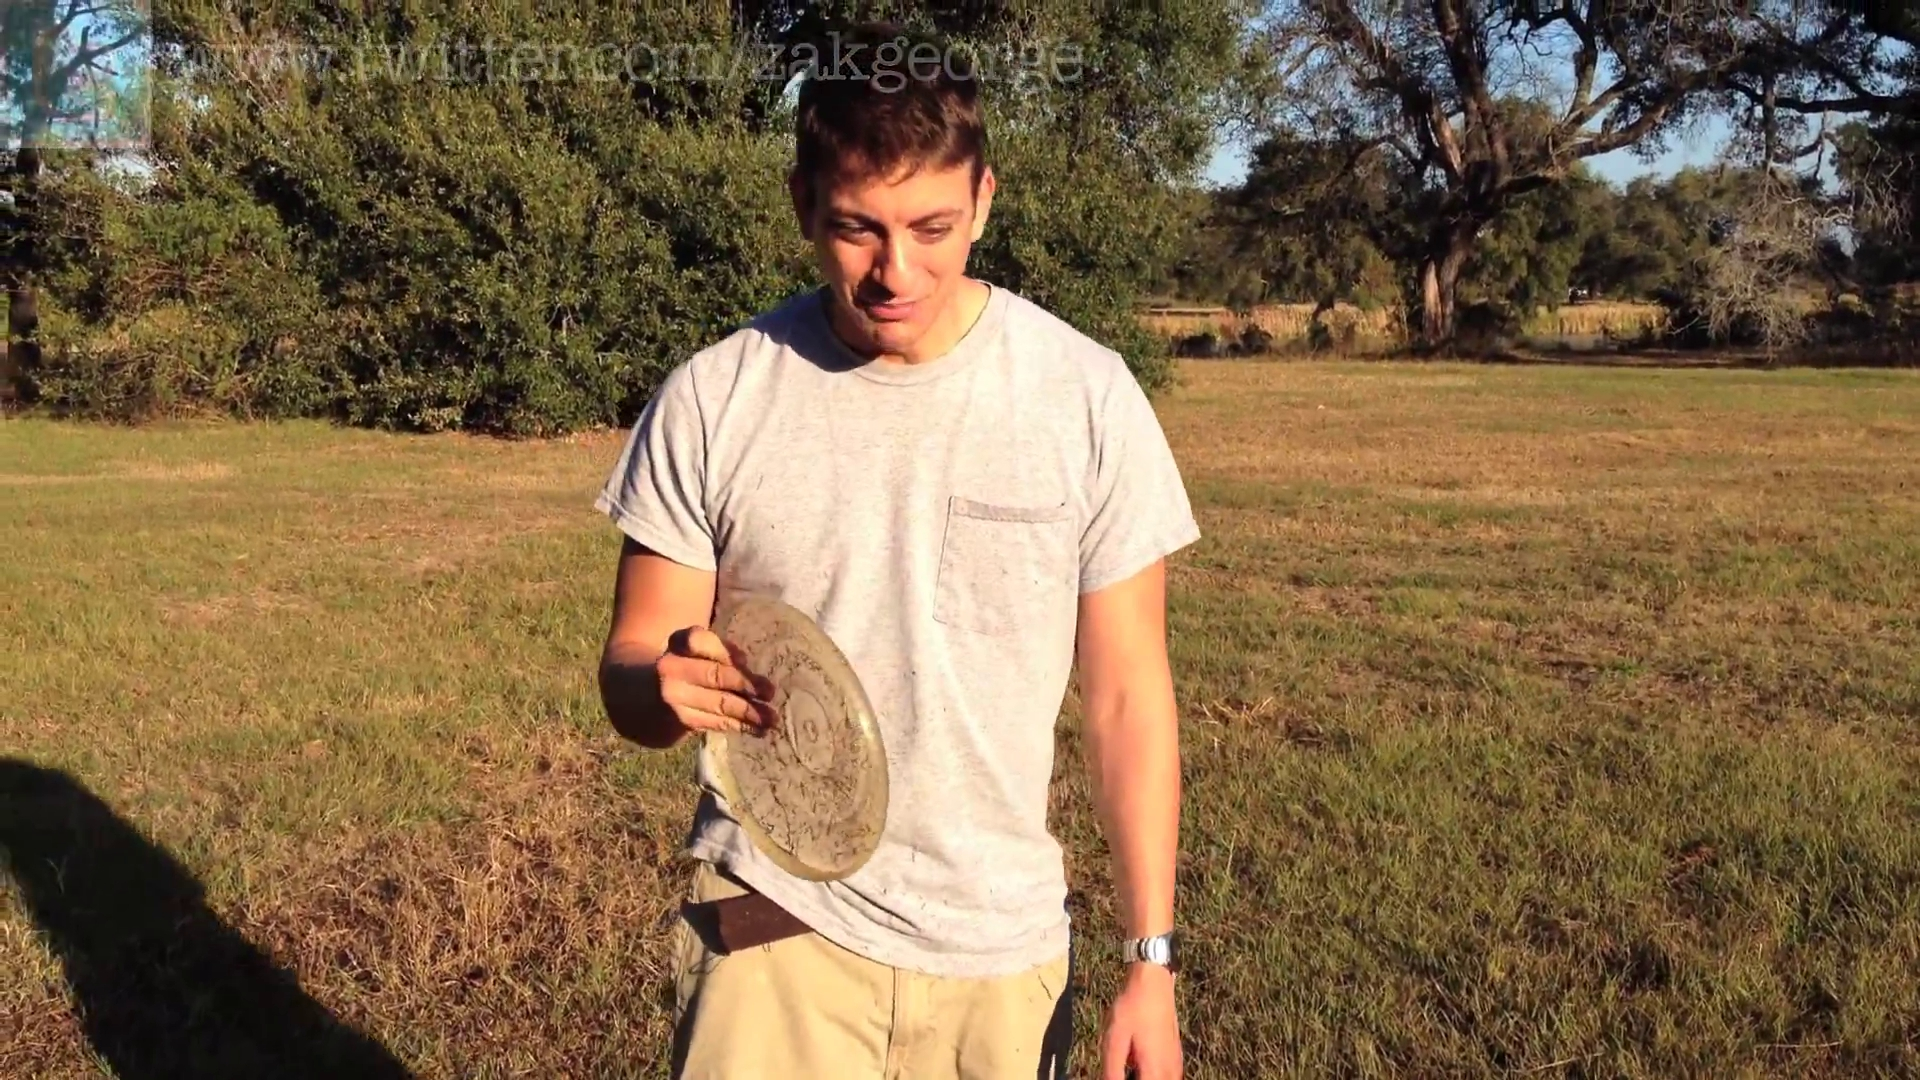person: (599, 22, 1201, 1080)
